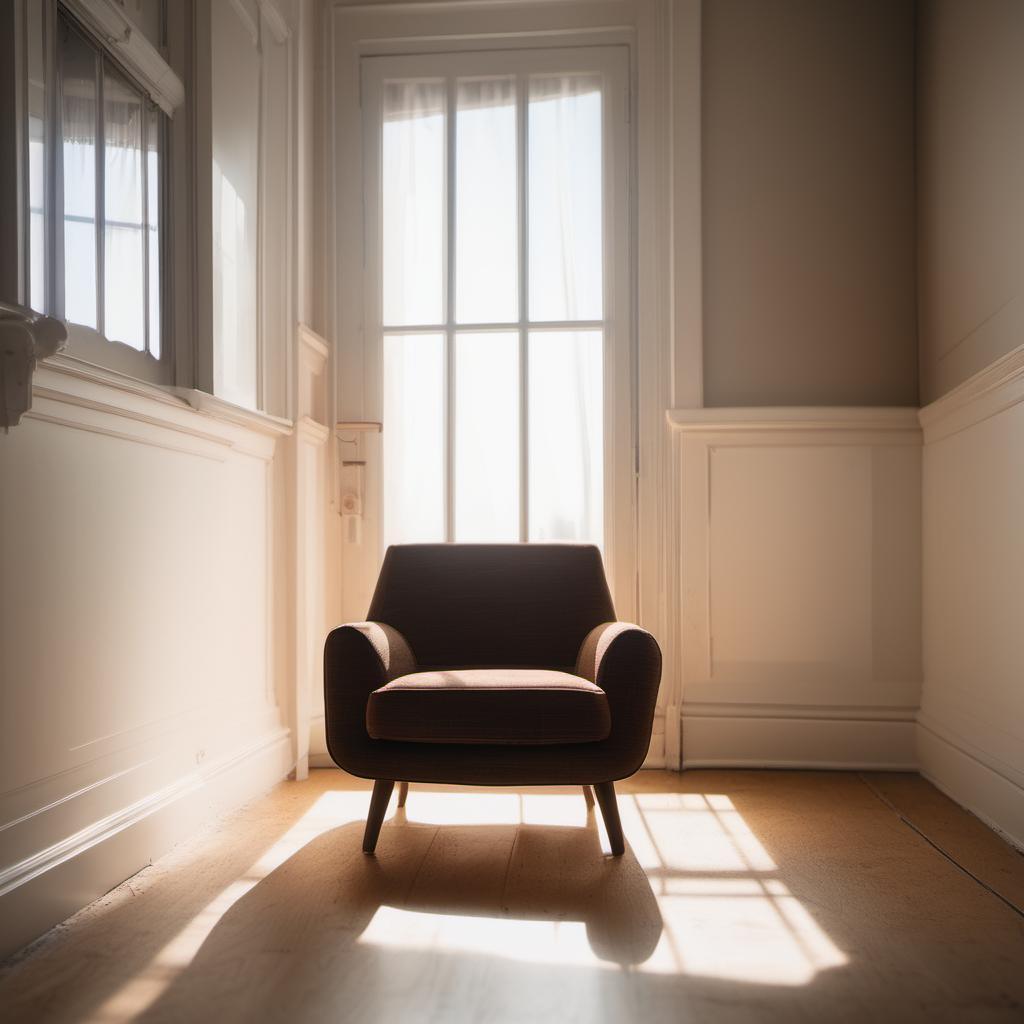chair_new: (322, 538, 663, 862)
